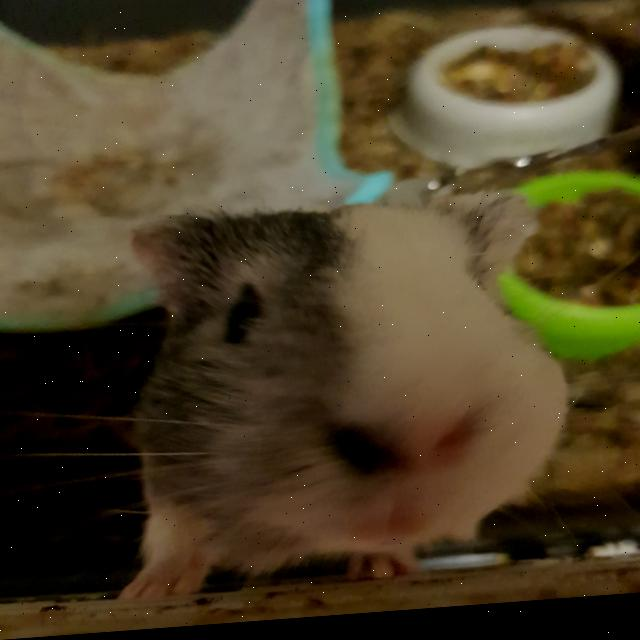guinea pig: (100, 189, 576, 610)
